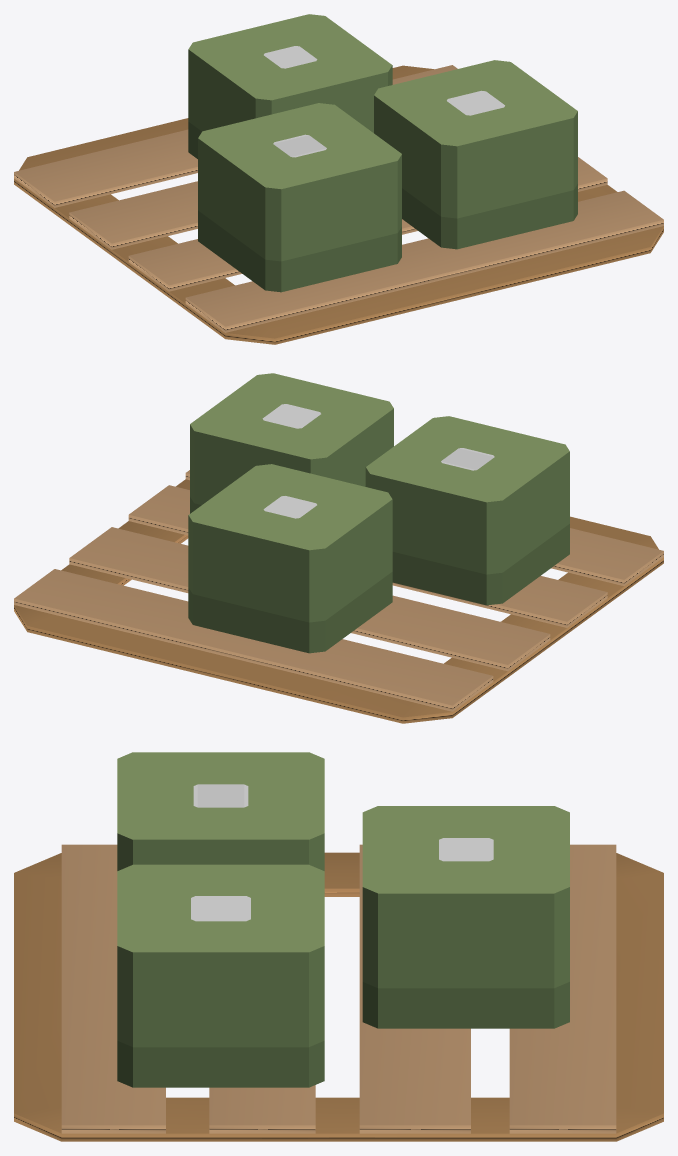
File: BC_cookrecipe_S_12.fbx
3 views of the same model, one above another, from view 1: azimuth 30°, elevation 25°; view 2: azimuth 150°, elevation 25°; view 3: azimuth 270°, elevation 25° (orthographic). The views are drawn at different scales.
Parts seen in each view (by area): view 1: BC_cookrecipe_S_12 1, base; view 2: BC_cookrecipe_S_12 1, base; view 3: BC_cookrecipe_S_12 1, base.
Part boxes in pixels (<box>): BC_cookrecipe_S_12 1: <box>188,14,577,292</box>; base: <box>14,65,663,344</box>; BC_cookrecipe_S_12 1: <box>188,373,569,653</box>; base: <box>14,470,663,723</box>; BC_cookrecipe_S_12 1: <box>117,752,569,1087</box>; base: <box>14,844,663,1141</box>.
Bounding box in the file's own units: 3.54 × 0.893 × 3.47.
